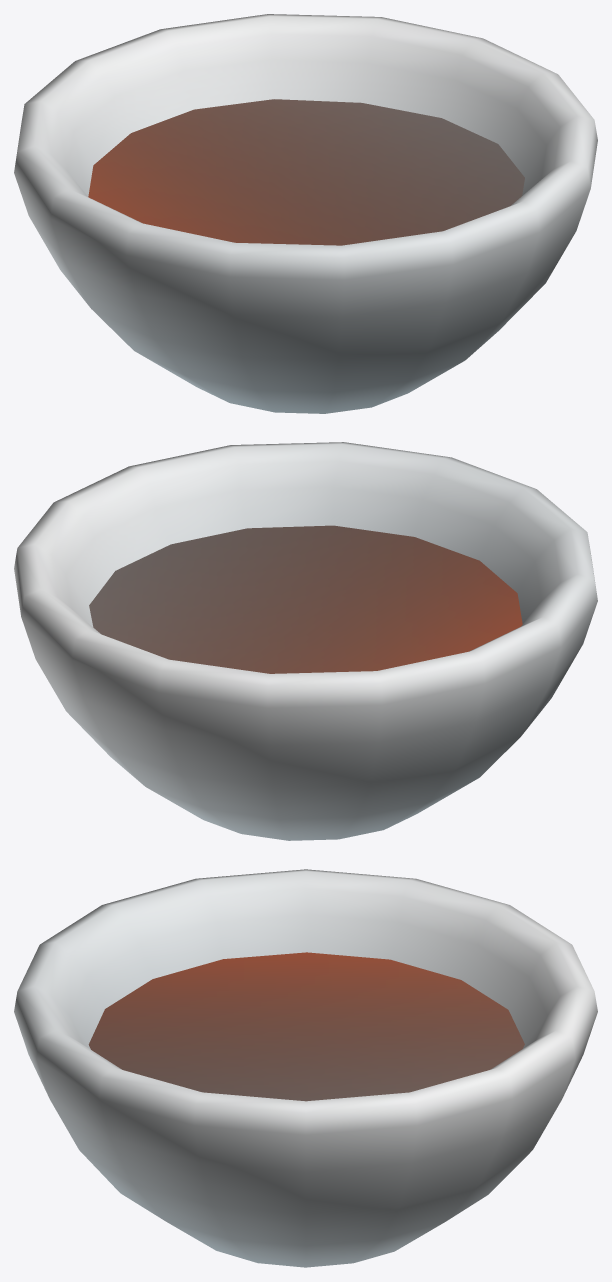
The model's file is sauce_006.fbx.
3 views of the same model, one above another, from view 1: azimuth 30°, elevation 25°; view 2: azimuth 150°, elevation 25°; view 3: azimuth 270°, elevation 25° (orthographic).
Parts seen in each view (by area): view 1: sauce_006; view 2: sauce_006; view 3: sauce_006.
Part boxes in pixels (x1,y1,x2,y2): sauce_006: (14,14,597,413); sauce_006: (14,442,597,840); sauce_006: (14,869,597,1267).
Size of the model in its own units: 6.8 by 6.8 by 2.91.
